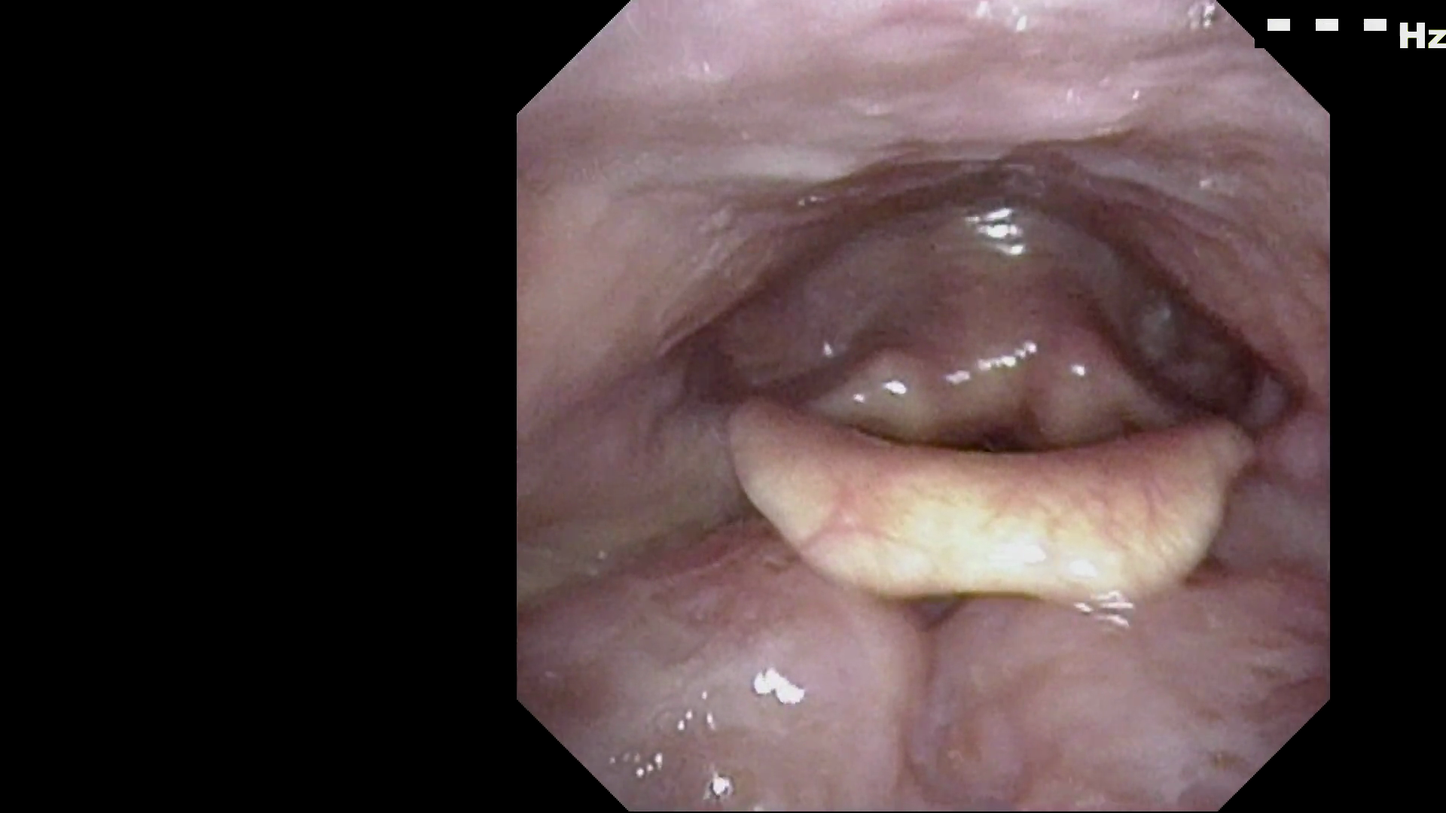epiglottis: (699, 380, 1301, 620)
trachea: (948, 363, 1095, 517)
